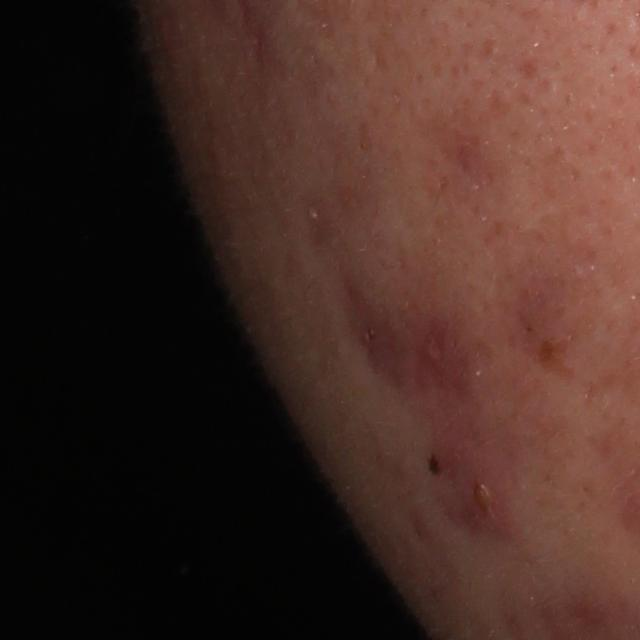atrophic_scar: (335, 262, 444, 398), (422, 115, 498, 219)
nevus: (423, 451, 443, 479)
